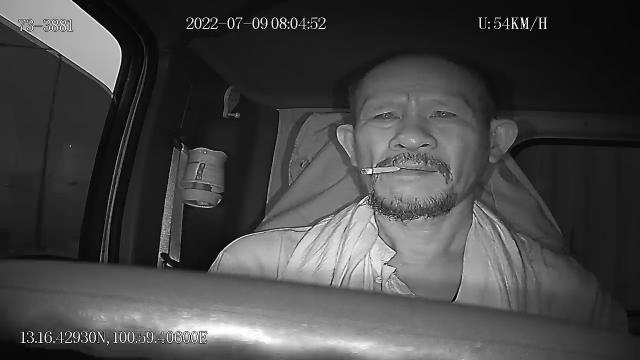SafeDriving: (422, 100, 464, 126), (364, 103, 406, 128)
Smoking: (359, 166, 401, 176)
